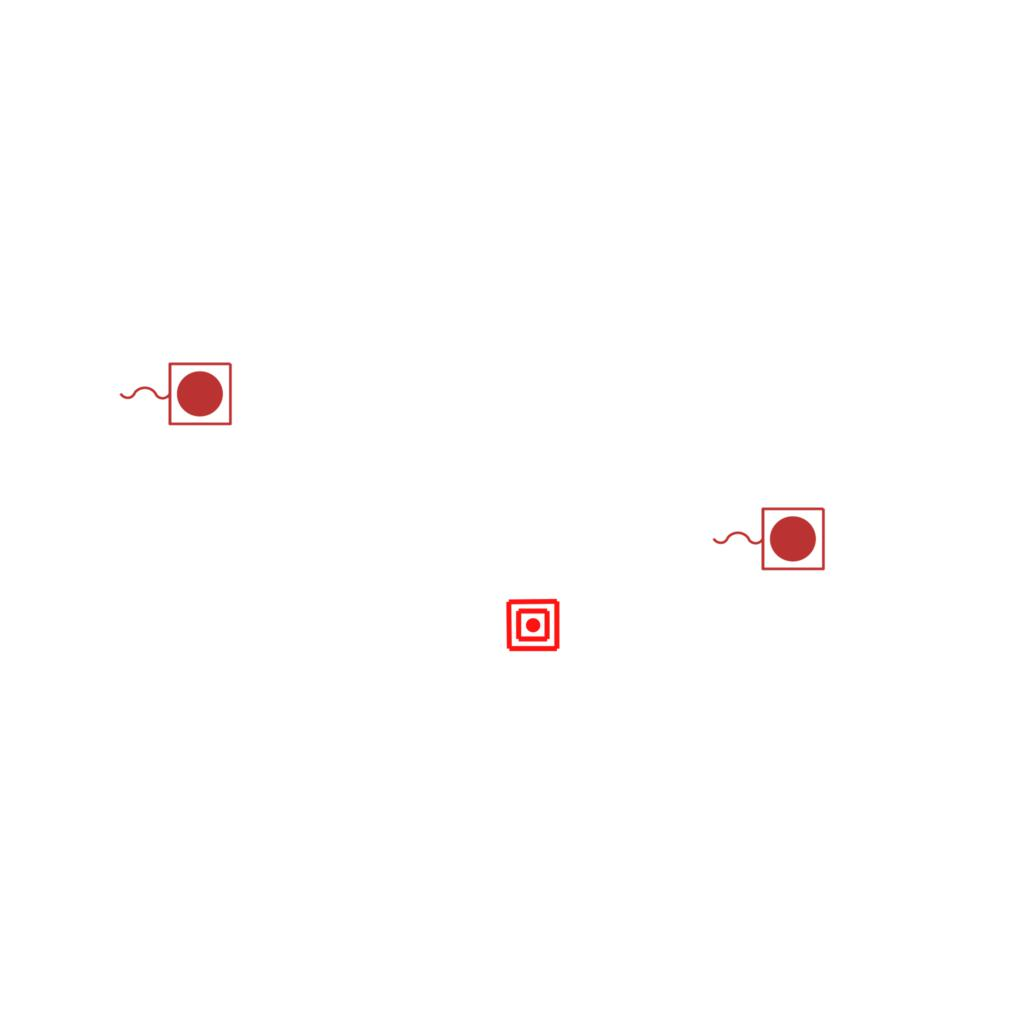NAM-Nichtautomatischer_Melder: (505, 597, 561, 653)
Zugtaster: (707, 502, 829, 574), (114, 357, 236, 429)
